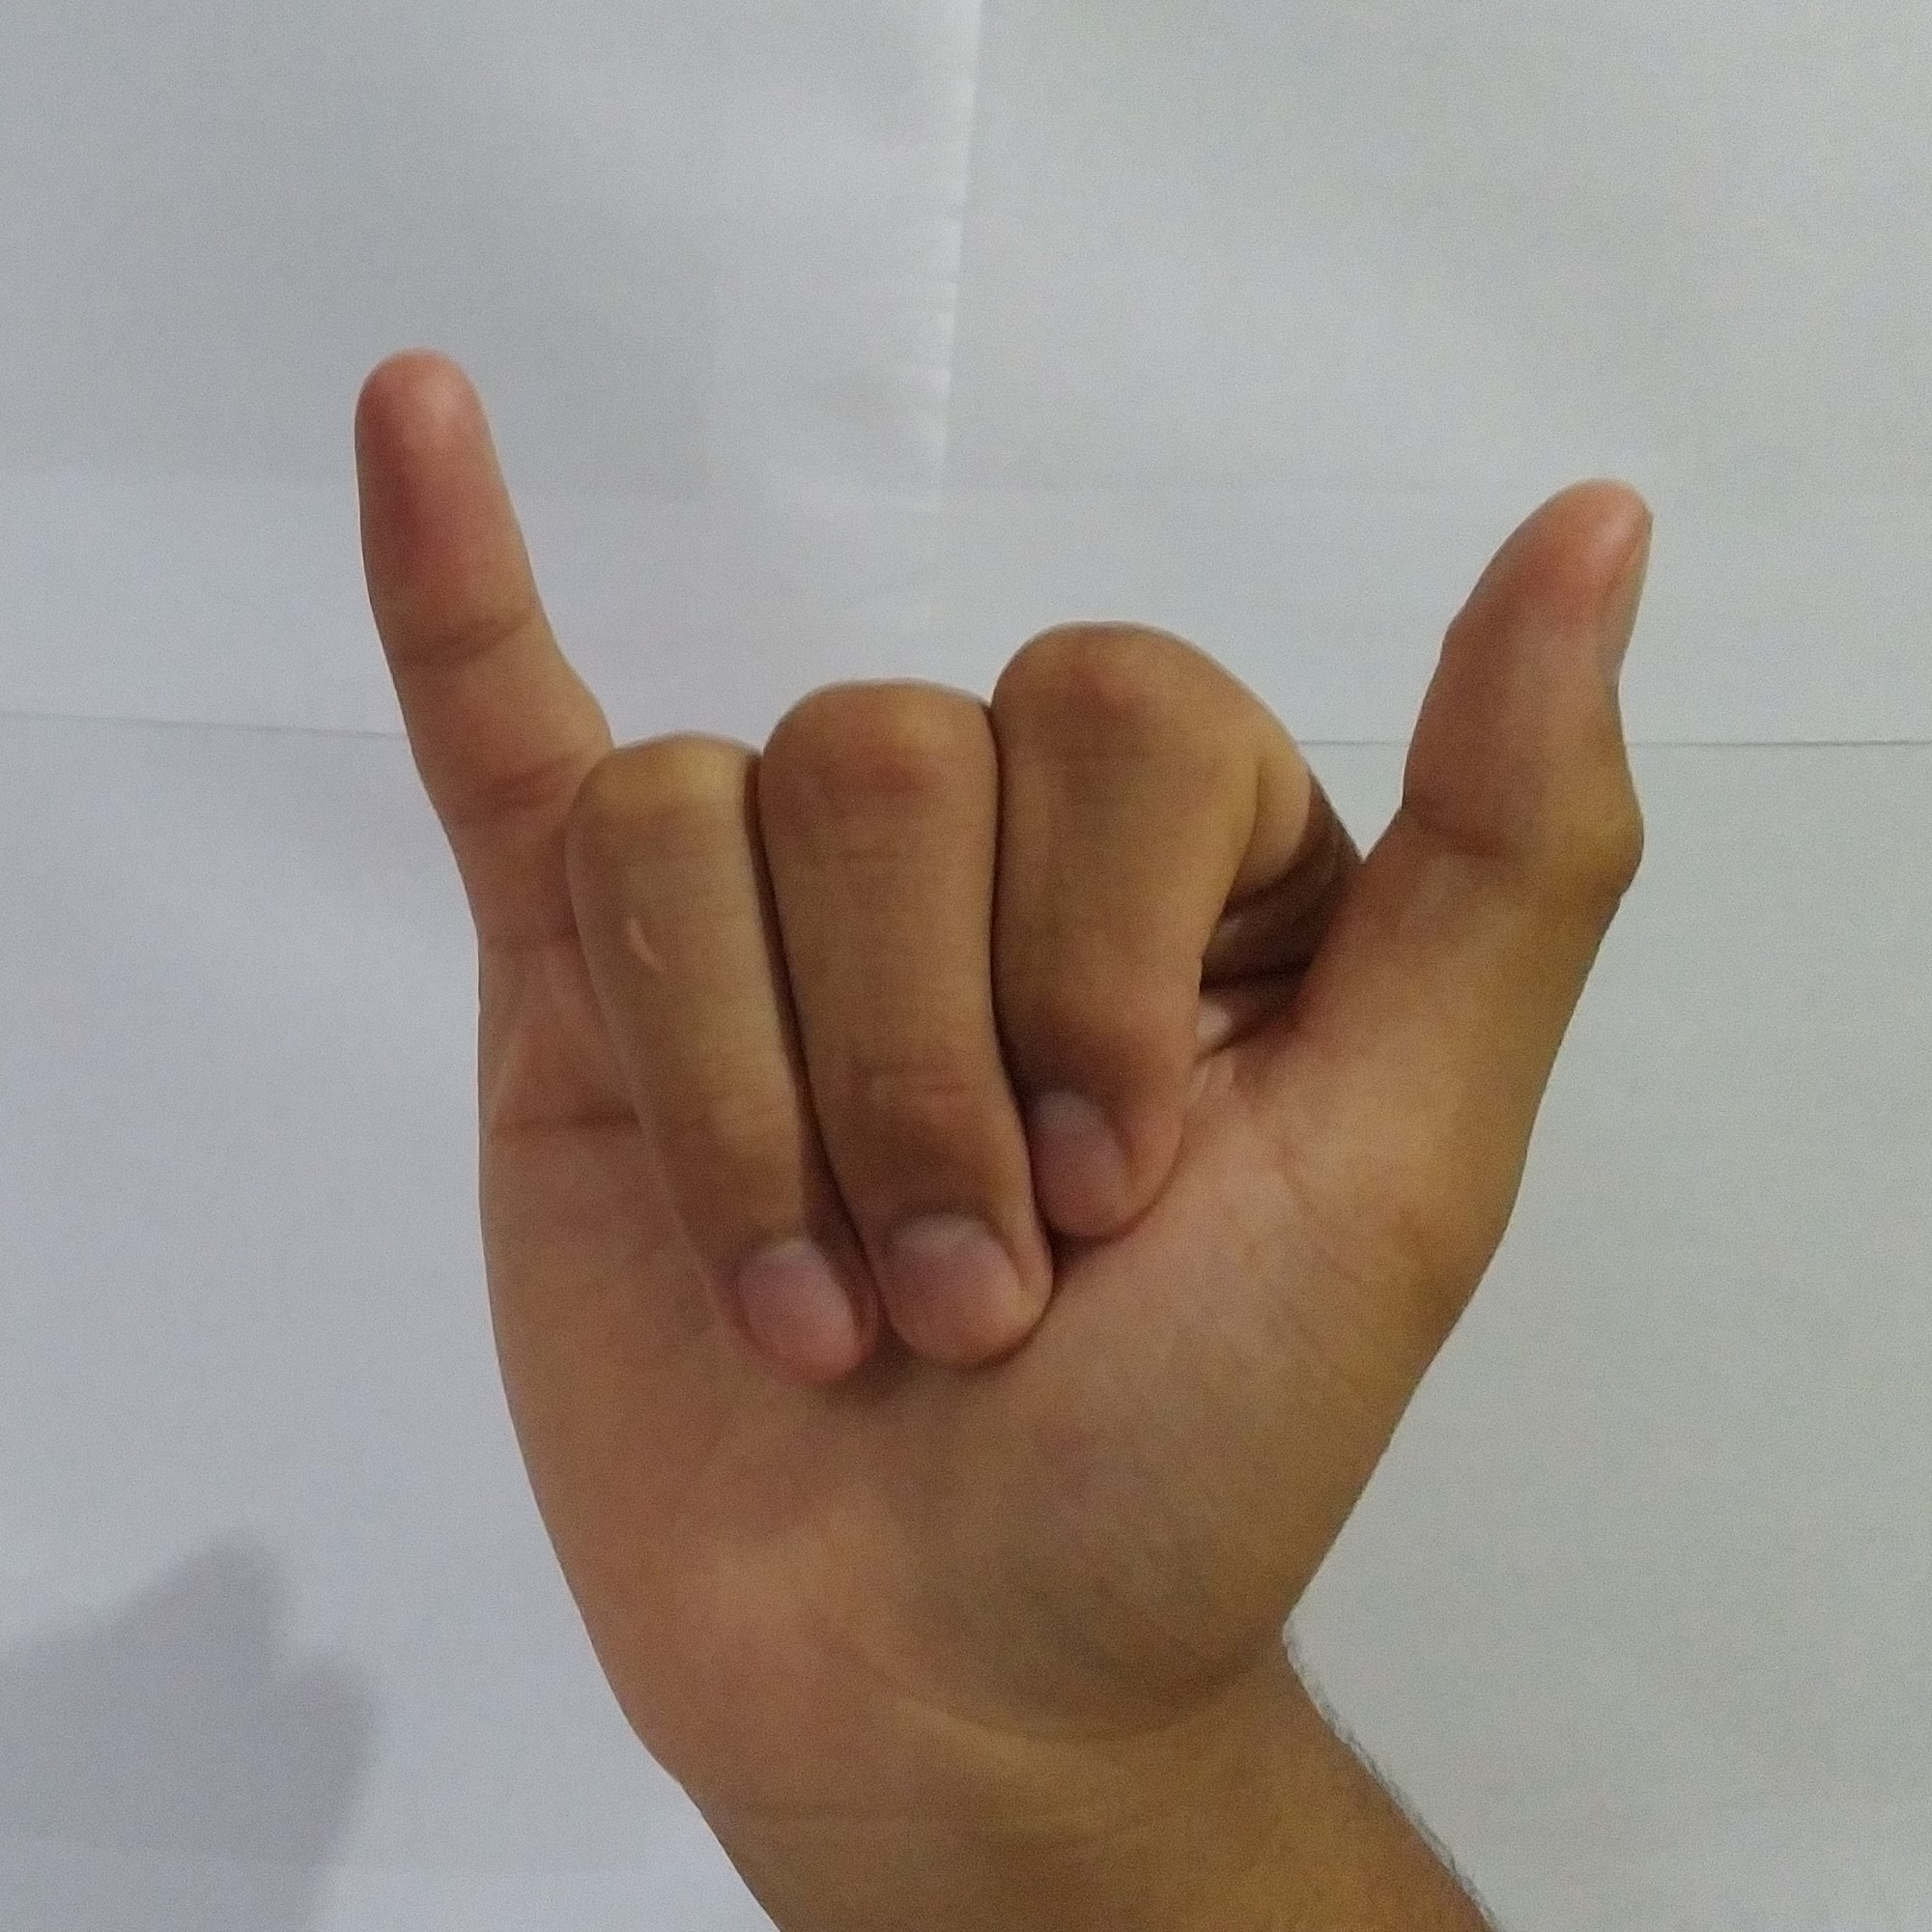Y: (331, 320, 1700, 1801)
